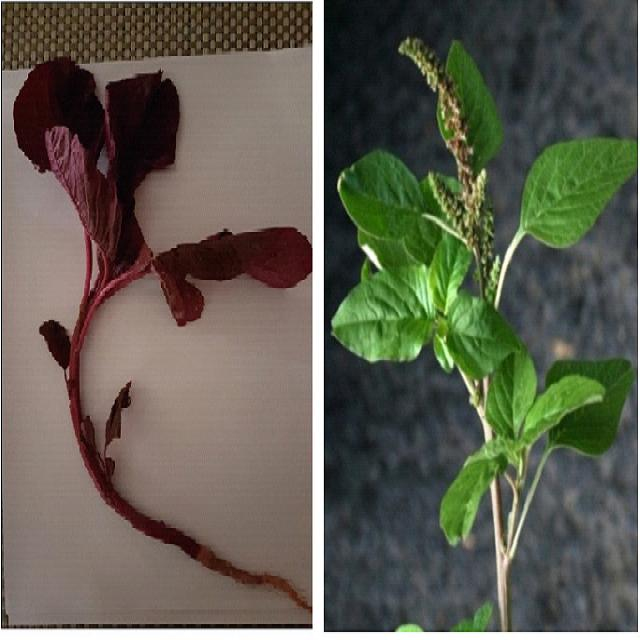Medicinal-Arive Dantu: (334, 23, 637, 591)
